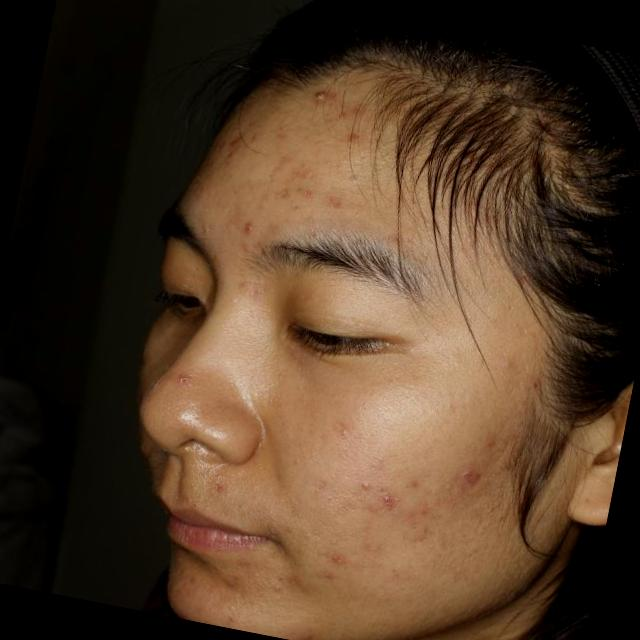acne: (458, 461, 492, 501), (275, 177, 312, 210), (371, 488, 404, 522), (217, 131, 250, 161), (236, 214, 262, 250), (312, 82, 336, 111), (407, 498, 432, 524), (172, 368, 196, 393), (319, 542, 340, 570), (321, 190, 342, 216)
